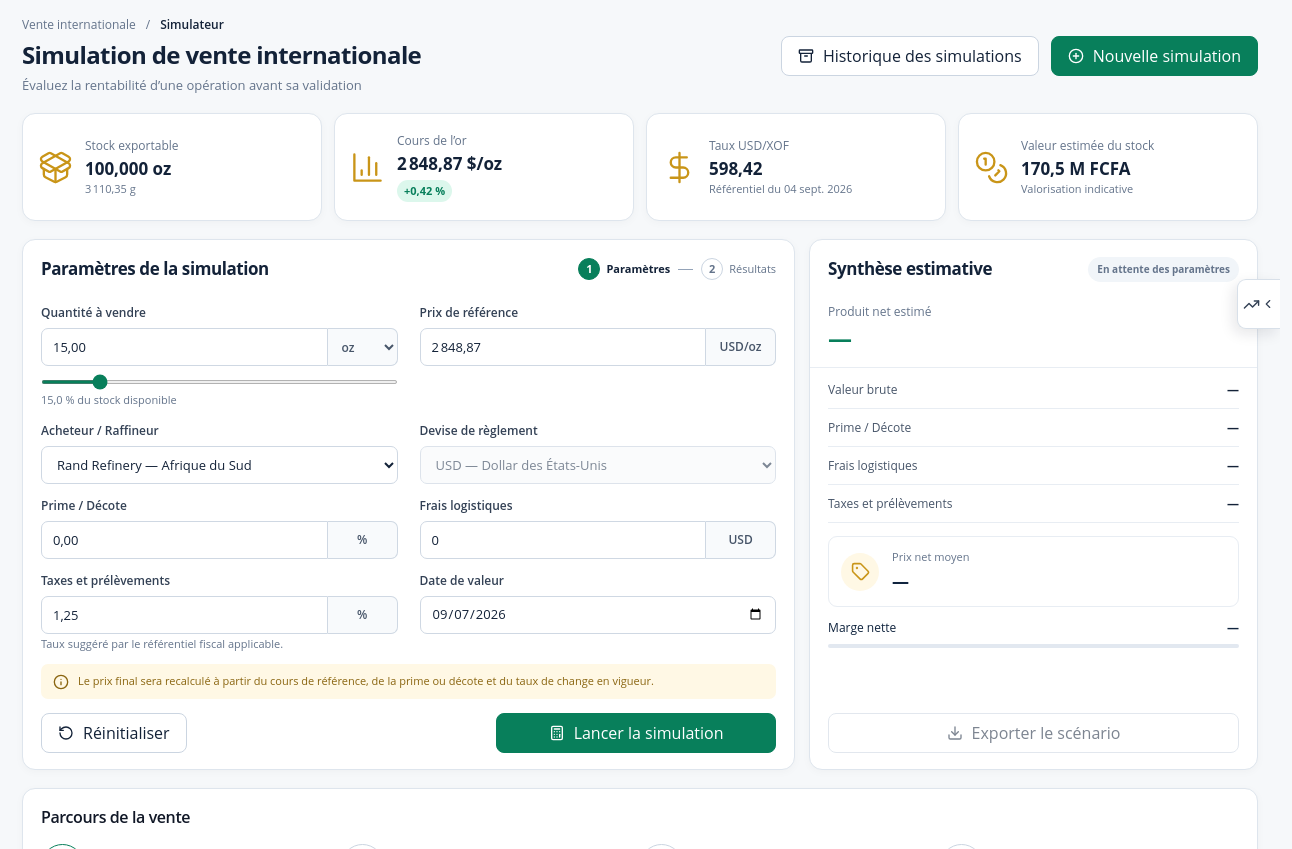
InternationalSaleSimulator › refuse une quantité supérieure au stock
Replace the text in the field labelled "Quantité à vendre" with "101": x=184, y=347 x1=41 y1=328 x2=328 y2=366
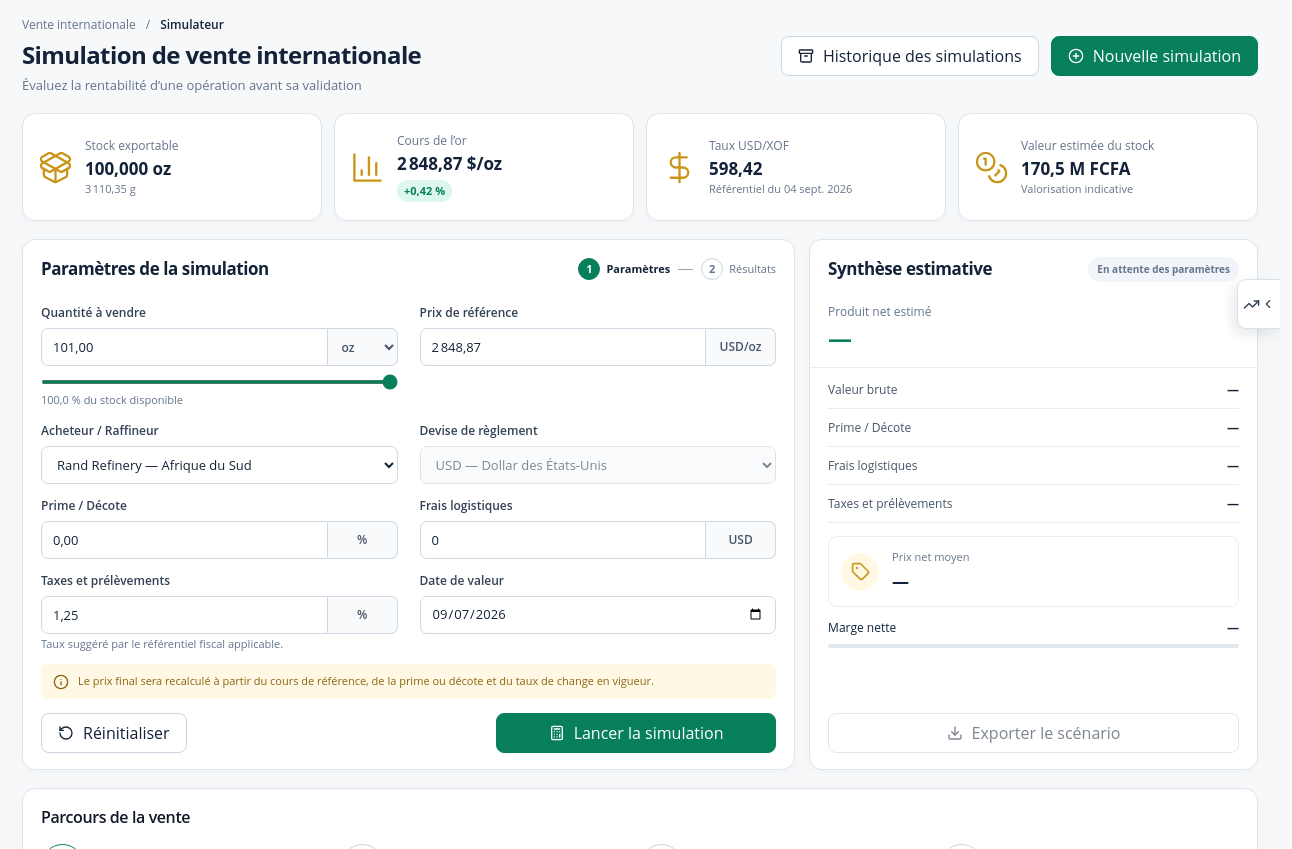
Click the button "Lancer la simulation": x=636, y=733 x1=496 y1=713 x2=776 y2=753
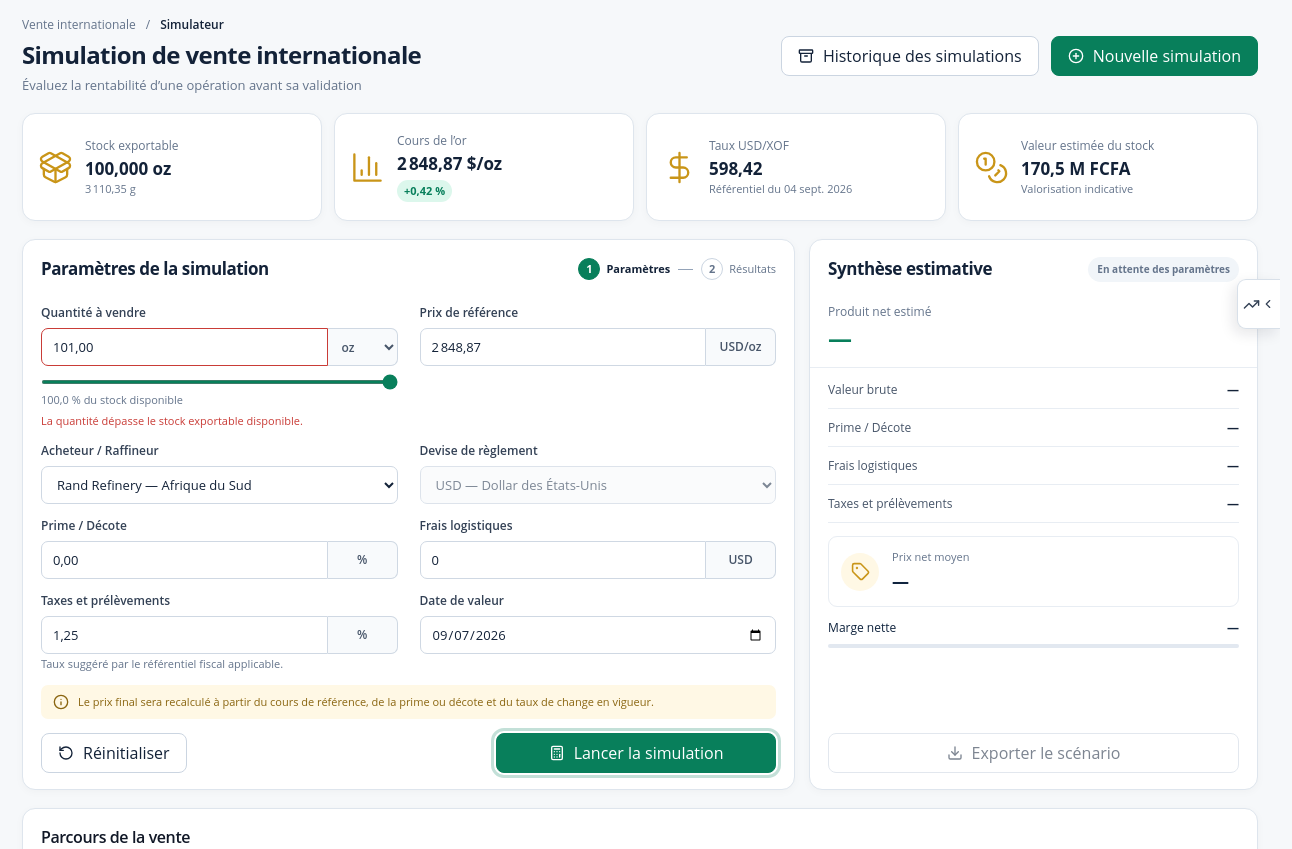
Now the text "La quantité dépasse le stock exportable disponible." is shown, box x1=41 y1=413 x2=303 y2=428
